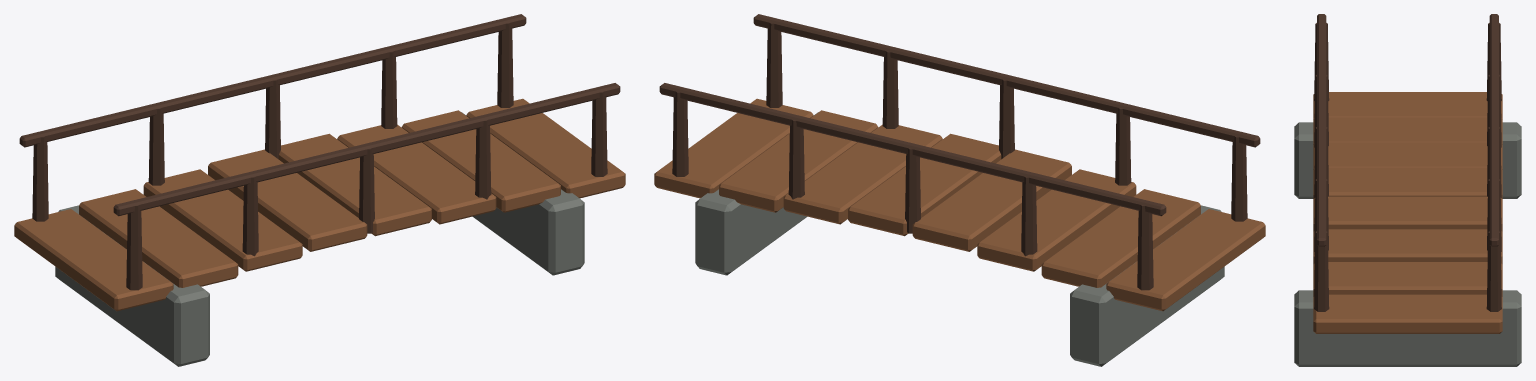
File: prop_bridge.glb
The picture shows the model from 3 angles, left to right: view 1: azimuth 30°, elevation 25°; view 2: azimuth 150°, elevation 25°; view 3: azimuth 270°, elevation 25°; orthographic projection. The views are drawn at different scales.
Parts seen in each view (by area): view 1: DeckPlank_00, DeckPlank_03, DeckPlank_01, Handrail.001, Handrail, DeckPlank_02, DeckPlank_05, StonePier, DeckPlank_07, DeckPlank_04, StonePier.001, DeckPlank_06 (+10 smaller); view 2: DeckPlank_00, DeckPlank_03, DeckPlank_01, Handrail, Handrail.001, DeckPlank_02, DeckPlank_05, StonePier, DeckPlank_07, DeckPlank_04, StonePier.001, DeckPlank_06 (+10 smaller); view 3: StonePier.001, DeckPlank_07, DeckPlank_04, DeckPlank_06, DeckPlank_05, DeckPlank_03, DeckPlank_02, DeckPlank_01, DeckPlank_00, StonePier, Handrail, Handrail.001 (+10 smaller).
Part boxes in pixels (x1,y1,x2,y2): DeckPlank_00: (14,209,173,311); DeckPlank_03: (208,149,367,251); DeckPlank_01: (79,189,238,287); Handrail.001: (19,14,526,147); Handrail: (113,83,620,216); DeckPlank_02: (143,169,302,271); DeckPlank_05: (337,124,496,224); StonePier: (55,205,209,366); DeckPlank_07: (466,98,625,198); DeckPlank_04: (278,133,431,236); StonePier.001: (461,112,584,275); DeckPlank_06: (401,110,560,212); DeckPlank_00: (1106,209,1265,311); DeckPlank_03: (912,149,1071,251); DeckPlank_01: (1041,189,1200,287); Handrail: (753,14,1260,147); Handrail.001: (659,83,1166,216); DeckPlank_02: (977,169,1136,271); DeckPlank_05: (783,124,942,224); StonePier: (1070,205,1224,366); DeckPlank_07: (654,98,813,198); DeckPlank_04: (848,133,1001,236); StonePier.001: (695,112,818,275); DeckPlank_06: (719,110,878,212); StonePier.001: (1294,290,1521,366); DeckPlank_07: (1313,294,1502,333); DeckPlank_04: (1313,196,1502,231); DeckPlank_06: (1313,262,1502,296); DeckPlank_05: (1313,229,1502,264); DeckPlank_03: (1313,167,1502,198); DeckPlank_02: (1313,142,1502,169); DeckPlank_01: (1313,117,1502,144); DeckPlank_00: (1313,92,1502,119); StonePier: (1294,122,1521,198); Handrail: (1317,14,1326,246); Handrail.001: (1489,14,1498,246).
Bounding box in the file's own units: 3.96 × 1.21 × 1.66.
